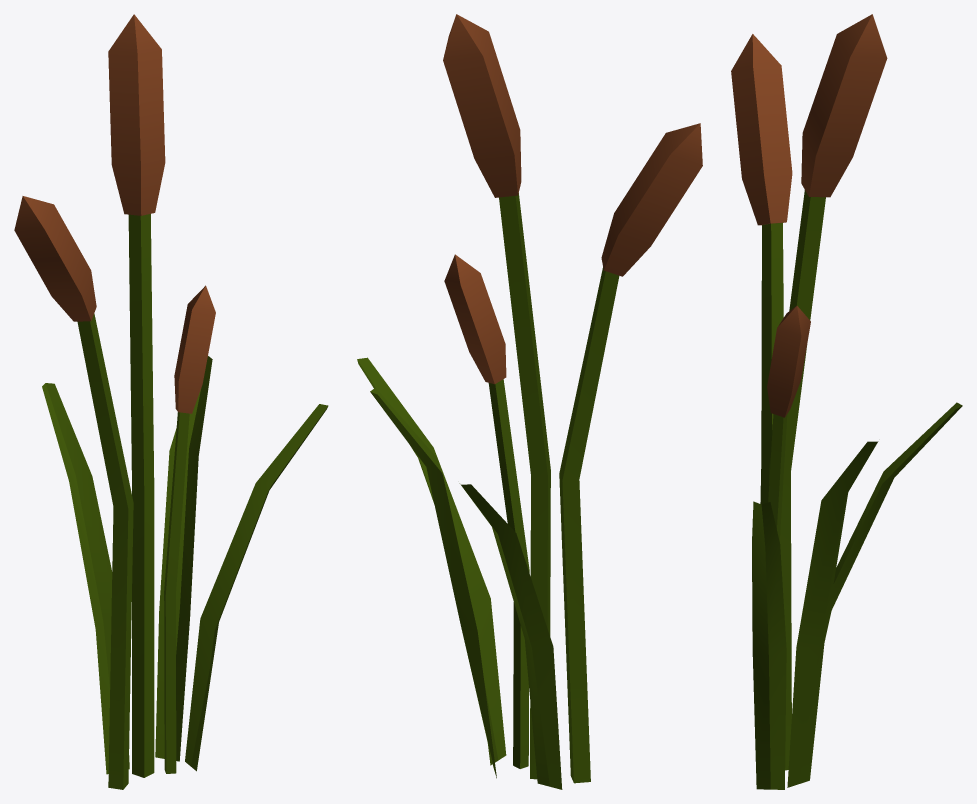
File: water-plant-2.fbx
3 views of the same model, side by side, from view 1: azimuth 30°, elevation 25°; view 2: azimuth 150°, elevation 25°; view 3: azimuth 270°, elevation 25° (orthographic). The views are drawn at different scales.
Parts seen in each view (by area): view 1: water-plant-2; view 2: water-plant-2; view 3: water-plant-2.
Boxes of the visible parts, <box> form: water-plant-2: <box>14,14,328,789</box>; water-plant-2: <box>357,14,702,789</box>; water-plant-2: <box>731,14,962,789</box>.
Size of the model in its own units: 102 by 223 by 60.93.
